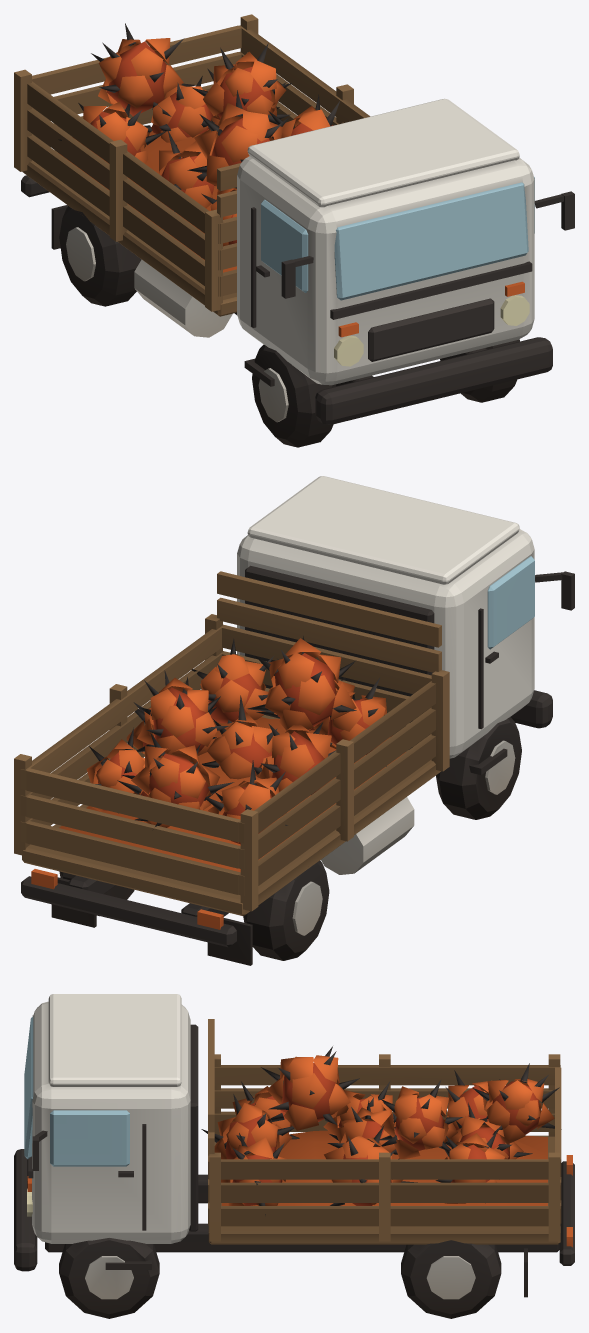
File: truck.glb
3 renders of one model, top to bottom at view 1: azimuth 30°, elevation 25°; view 2: azimuth 150°, elevation 25°; view 3: azimuth 270°, elevation 25°, orthographic. The views are drawn at different scales.
Parts seen in each view (by area): view 1: truck_mesh, Cargo; view 2: truck_mesh, Cargo; view 3: truck_mesh, Cargo.
Part boxes in pixels (x1,y1,x2,y2): truck_mesh: (14, 14, 574, 447); Cargo: (58, 23, 339, 272); truck_mesh: (14, 476, 574, 965); Cargo: (59, 636, 405, 872); truck_mesh: (14, 994, 574, 1318); Cargo: (201, 1046, 561, 1215).
Size of the model in its own units: 2.3 by 2.04 by 4.35.
